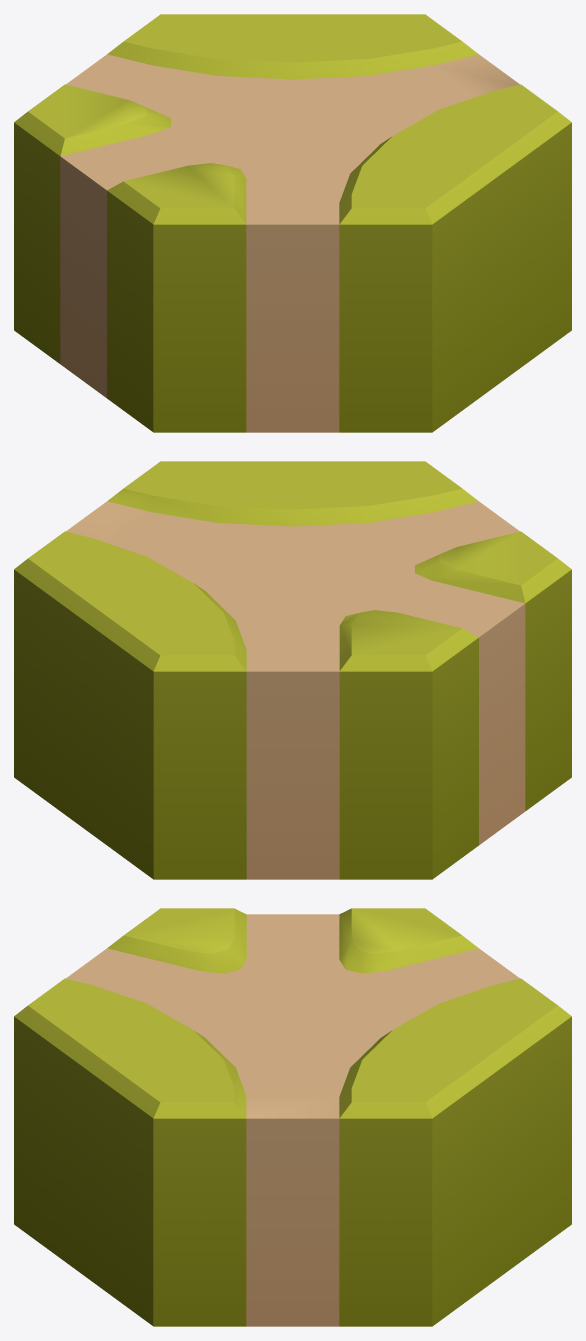
File: hex_road_h.glb
The picture shows the model from 3 angles, top to bottom: view 1: azimuth 30°, elevation 25°; view 2: azimuth 150°, elevation 25°; view 3: azimuth 270°, elevation 25°; orthographic projection.
Visible parts, largest first — view 1: hex_road_H; view 2: hex_road_H; view 3: hex_road_H.
Boxes of the visible parts, <box> form: hex_road_H: <box>14,14,571,432</box>; hex_road_H: <box>14,461,571,879</box>; hex_road_H: <box>14,908,571,1326</box>.
Size of the model in its own units: 2 by 1 by 2.31.
1 material, 1 textured.
